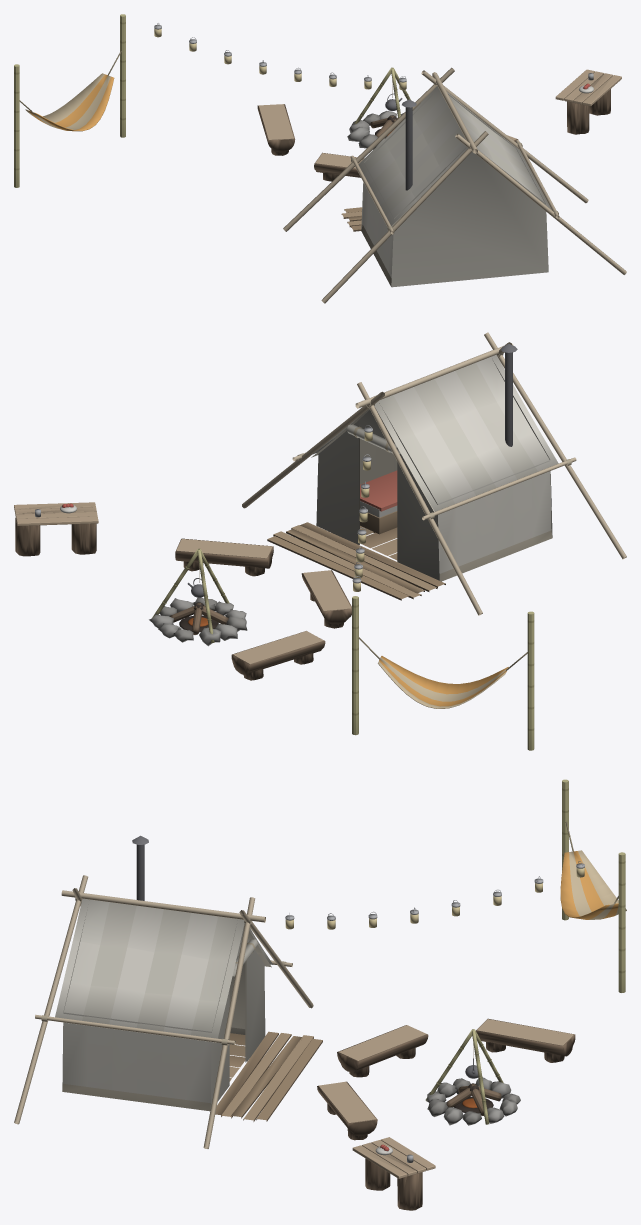
The model's file is camp_picked.glb.
3 renders of one model, top to bottom at view 1: azimuth 30°, elevation 25°; view 2: azimuth 150°, elevation 25°; view 3: azimuth 270°, elevation 25°, orthographic. The views are drawn at different scales.
Parts seen in each view (by area): view 1: Tent, Hammock, Table, Fire, Seat_2, Seat_1; view 2: Tent, Hammock, Fire, Table, Seat_2, Seat_0, Seat_1; view 3: Tent, Hammock, Fire, Table, Seat_2, Seat_1, Seat_0.
Boxes of the visible parts, x1,y1,x2,y2 form: Tent: (283,67,626,303); Hammock: (14,14,125,187); Table: (555,69,621,134); Fire: (347,67,410,149); Seat_2: (257,104,295,155); Seat_1: (314,152,363,181); Tent: (242,332,626,615); Hammock: (352,596,534,750); Fire: (149,548,247,646); Table: (14,502,98,556); Seat_2: (231,631,325,680); Seat_0: (175,538,273,576); Seat_1: (301,570,351,628); Tent: (14,835,322,1148); Hammock: (560,779,626,992); Fire: (425,1029,520,1125); Table: (352,1137,435,1210); Seat_2: (476,1018,575,1062); Seat_1: (337,1025,428,1077); Seat_0: (317,1081,377,1140).
Bounding box in the file's own units: 11.09 × 3.52 × 9.67.
